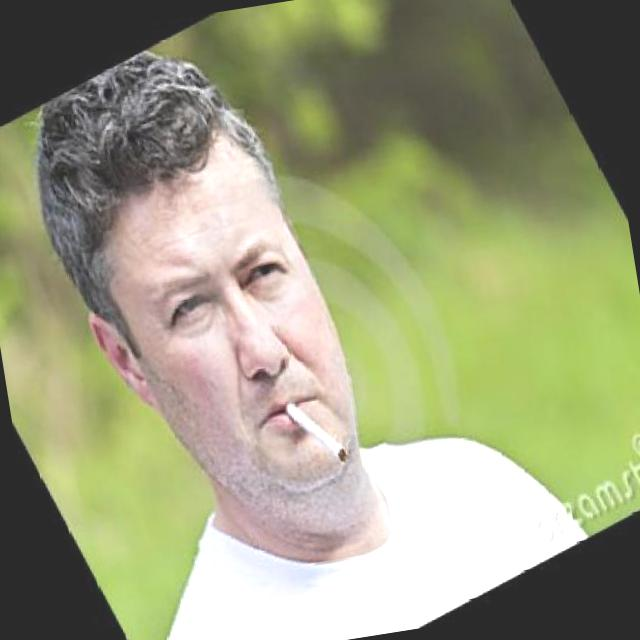smoke: (282, 384, 358, 484)
